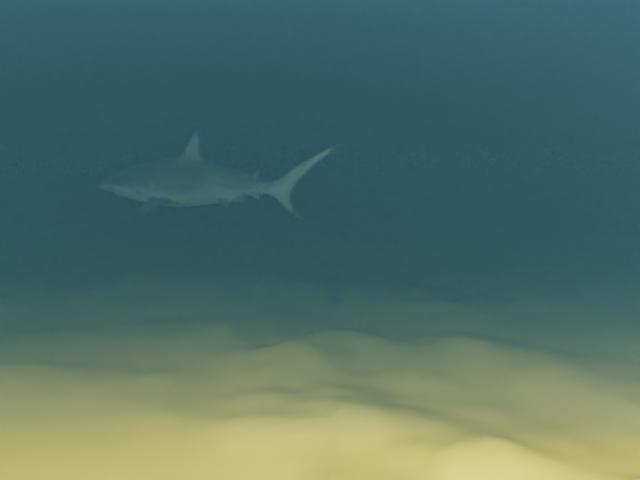Carribean Shark.001: (97, 129, 345, 220)
